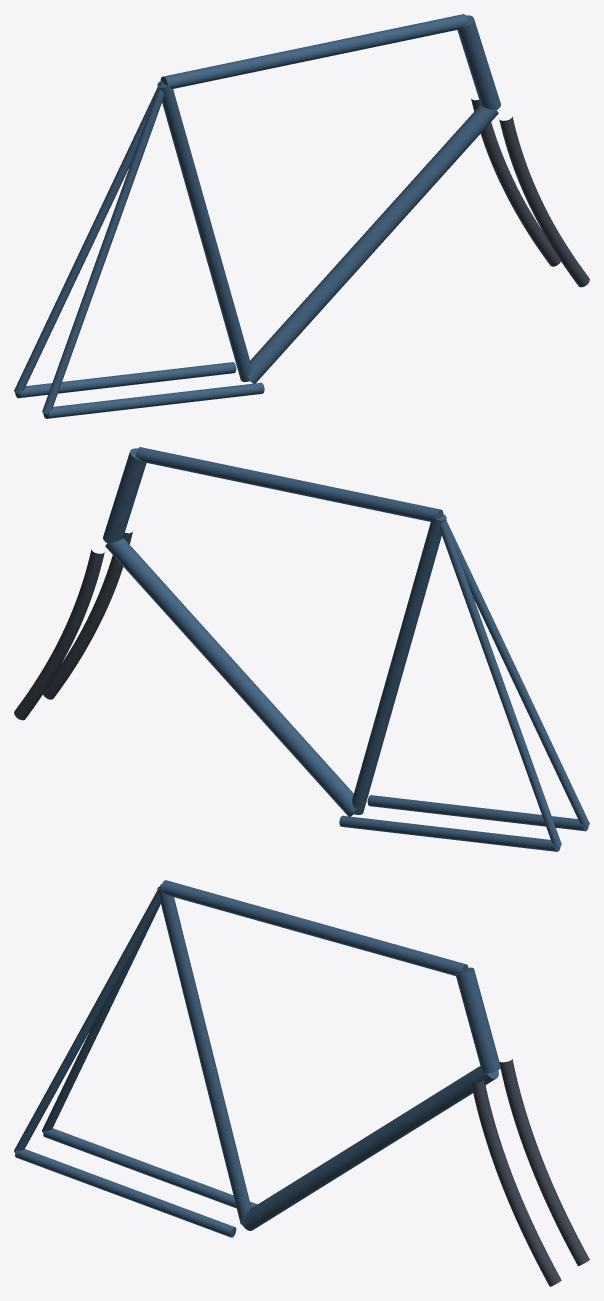
File: dosnoventa-01-bcn-l.glb
3 views of the same model, one above another, from view 1: azimuth 30°, elevation 25°; view 2: azimuth 150°, elevation 25°; view 3: azimuth 330°, elevation 25° (orthographic).
Parts seen in each view (by area): view 1: paint_down, paint_top, paint_seat, paint_seatstay_0.045, paint_seatstay_-0.045, fork_0.045, paint_chainstay_0.045, paint_chainstay_-0.045, fork_-0.045, paint_head; view 2: paint_down, paint_top, paint_seat, paint_seatstay_-0.045, paint_seatstay_0.045, fork_-0.045, paint_chainstay_-0.045, paint_chainstay_0.045, fork_0.045, paint_head; view 3: paint_down, paint_seat, paint_top, fork_0.045, fork_-0.045, paint_chainstay_0.045, paint_seatstay_0.045, paint_chainstay_-0.045, paint_head, paint_seatstay_-0.045.
Boxes of the visible parts, <box> form: paint_down: <box>247,104,498,383</box>; paint_top: <box>160,14,468,88</box>; paint_seat: <box>157,81,251,381</box>; paint_seatstay_0.045: <box>42,82,165,414</box>; paint_seatstay_-0.045: <box>14,81,163,394</box>; fork_0.045: <box>499,116,589,287</box>; paint_chainstay_0.045: <box>43,382,264,418</box>; paint_chainstay_-0.045: <box>15,362,236,398</box>; fork_-0.045: <box>471,98,560,266</box>; paint_head: <box>457,15,500,110</box>; paint_down: <box>105,537,356,816</box>; paint_top: <box>135,447,443,521</box>; paint_seat: <box>352,514,446,814</box>; paint_seatstay_-0.045: <box>438,515,561,847</box>; paint_seatstay_0.045: <box>440,514,589,827</box>; fork_-0.045: <box>14,549,104,720</box>; paint_chainstay_-0.045: <box>339,815,560,851</box>; paint_chainstay_0.045: <box>367,795,588,831</box>; fork_0.045: <box>43,531,132,699</box>; paint_head: <box>103,448,146,543</box>; paint_down: <box>240,1066,498,1230</box>; paint_seat: <box>157,887,251,1224</box>; paint_top: <box>160,880,468,975</box>; fork_0.045: <box>471,1080,561,1286</box>; fork_-0.045: <box>499,1059,589,1266</box>; paint_chainstay_0.045: <box>15,1149,236,1237</box>; paint_seatstay_0.045: <box>14,884,161,1152</box>; paint_chainstay_-0.045: <box>43,1128,257,1208</box>; paint_head: <box>455,967,500,1073</box>; paint_seatstay_-0.045: <box>42,884,161,1132</box>.
Bounding box in the file's own units: 1.01 × 0.5775 × 0.112.
